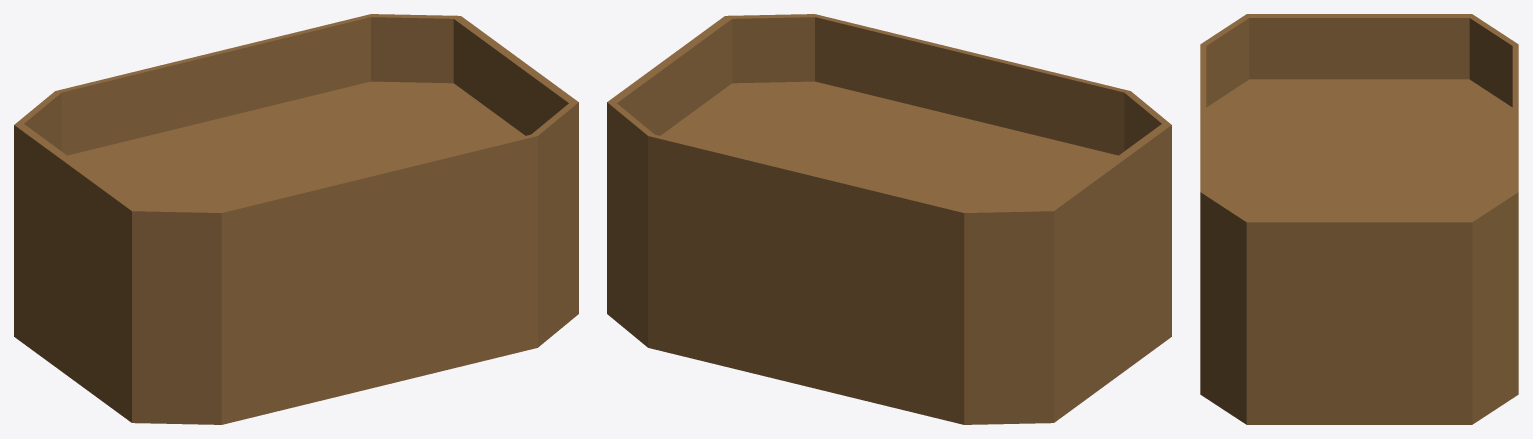
File: VeggieBox.fbx
The picture shows the model from 3 angles, left to right: view 1: azimuth 30°, elevation 25°; view 2: azimuth 150°, elevation 25°; view 3: azimuth 270°, elevation 25°; orthographic projection. The views are drawn at different scales.
Parts seen in each view (by area): view 1: Cube; view 2: Cube; view 3: Cube.
Part boxes in pixels (x1=…): Cube: x1=14, y1=14, x2=578, y2=424; Cube: x1=607, y1=14, x2=1171, y2=424; Cube: x1=1200, y1=14, x2=1518, y2=424.
Bounding box in the file's own units: 666 × 302 × 430.
